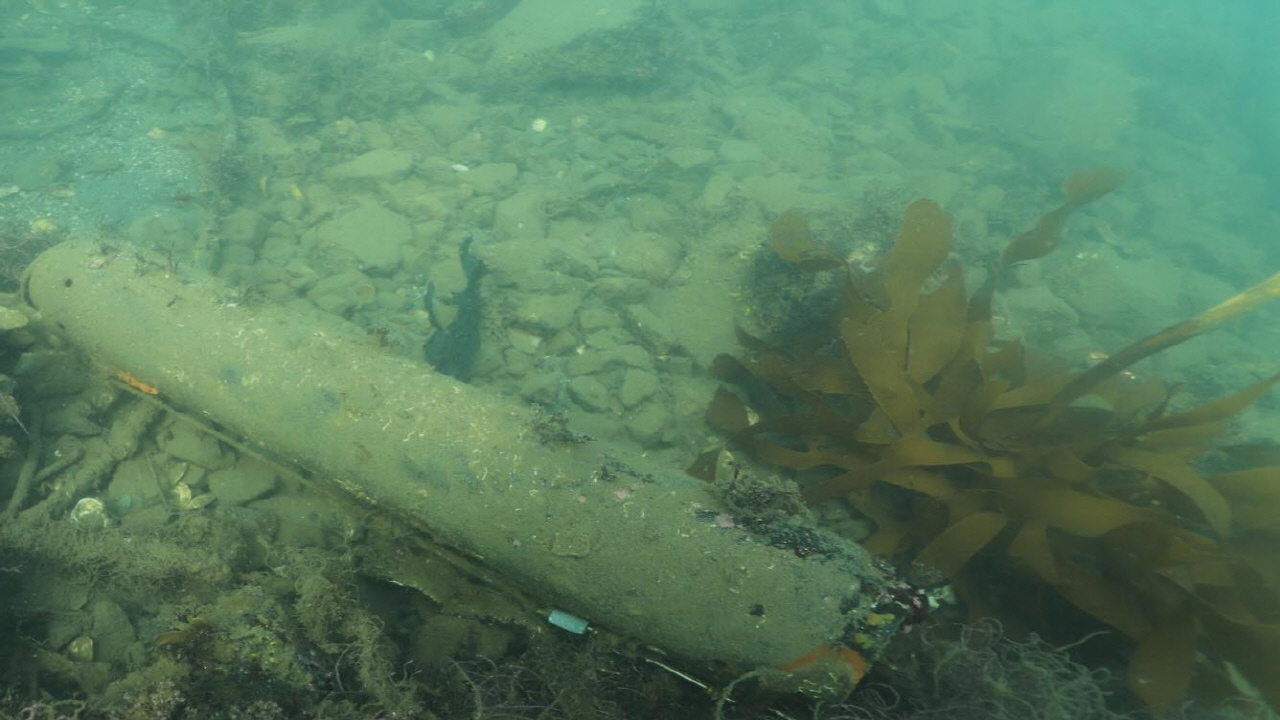eel fish trap: (20, 233, 914, 719)
